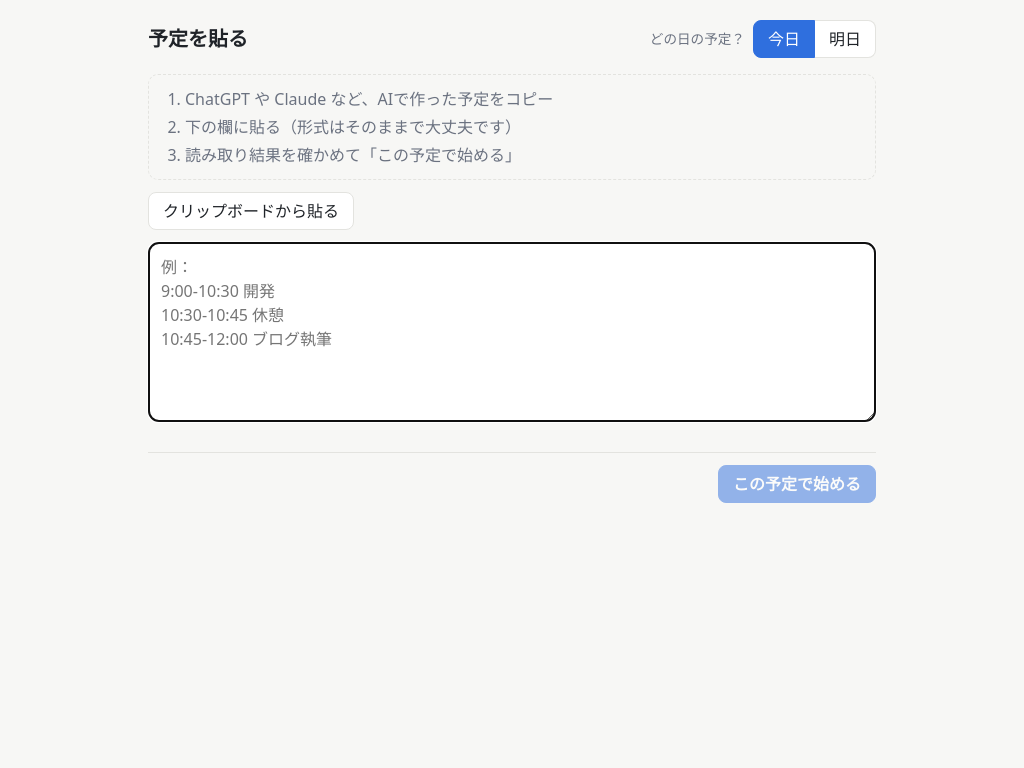
Test case: 取り込みプレビュー › 貼るとすぐにプレビューが出る
Type "時間 内容 9:00–10:30 開発①（1.5h） 10:30–10:45 休憩 10:45–12:15 開発②（1.5h） 12:15–13:15 ランニング（60分） 13:15–14:15 シャワー・昼食 14:15–15:45 Notion × Discord連携①（1.5h） 15:45–16:00 休憩 16:00–17:00 Notion × Discord連携②（1h） 17:0" into the text box named "予定のテキスト" at (512, 332), box x1=148 y1=242 x2=876 y2=422
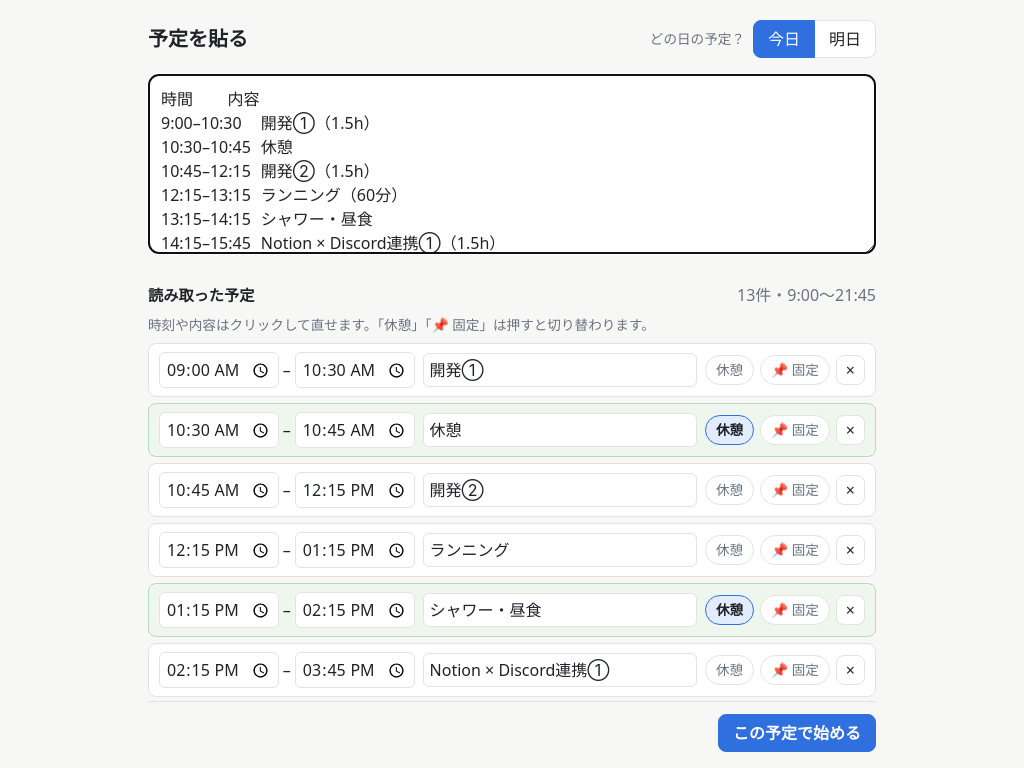
Check: the number of list items is 13
